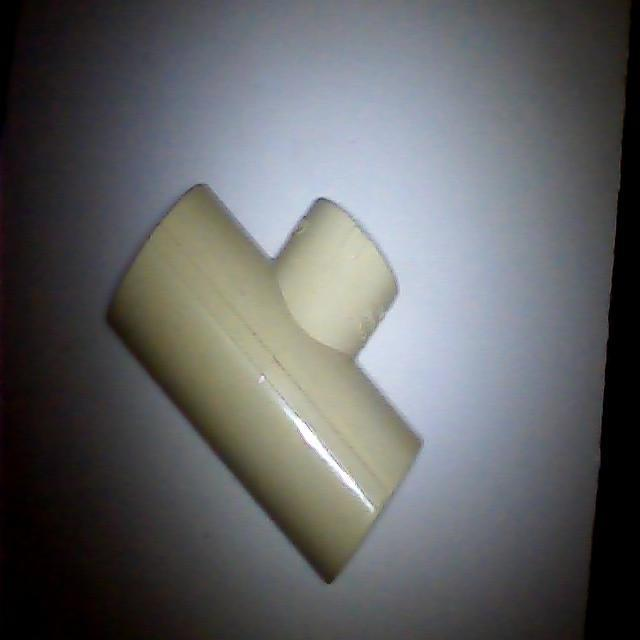T Joint: (104, 184, 425, 586)
